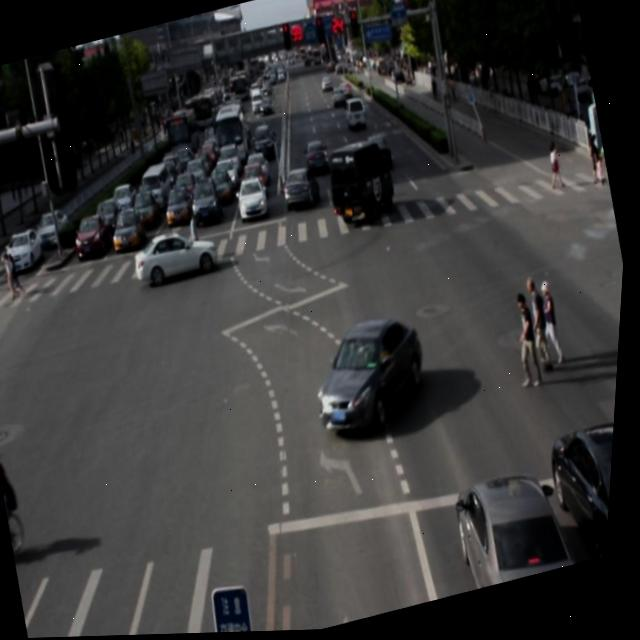car: (307, 310, 443, 441), (450, 465, 582, 595), (541, 417, 620, 571), (132, 220, 225, 294)
truck: (319, 135, 406, 233)
